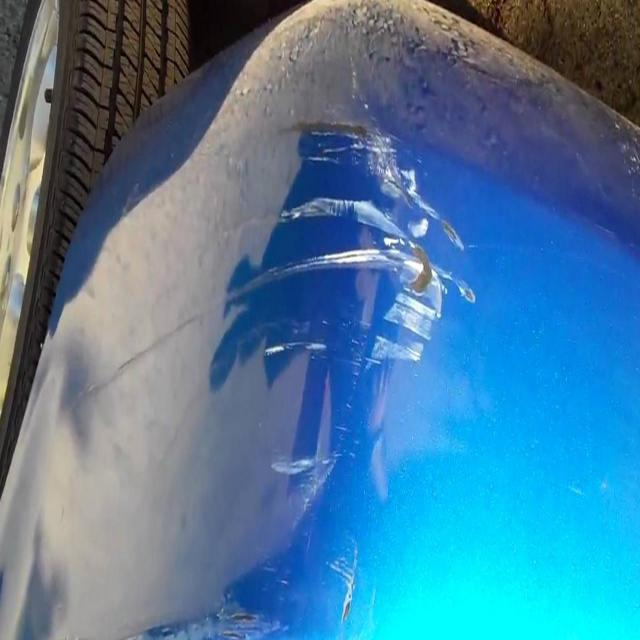scratch: (195, 64, 488, 536)
